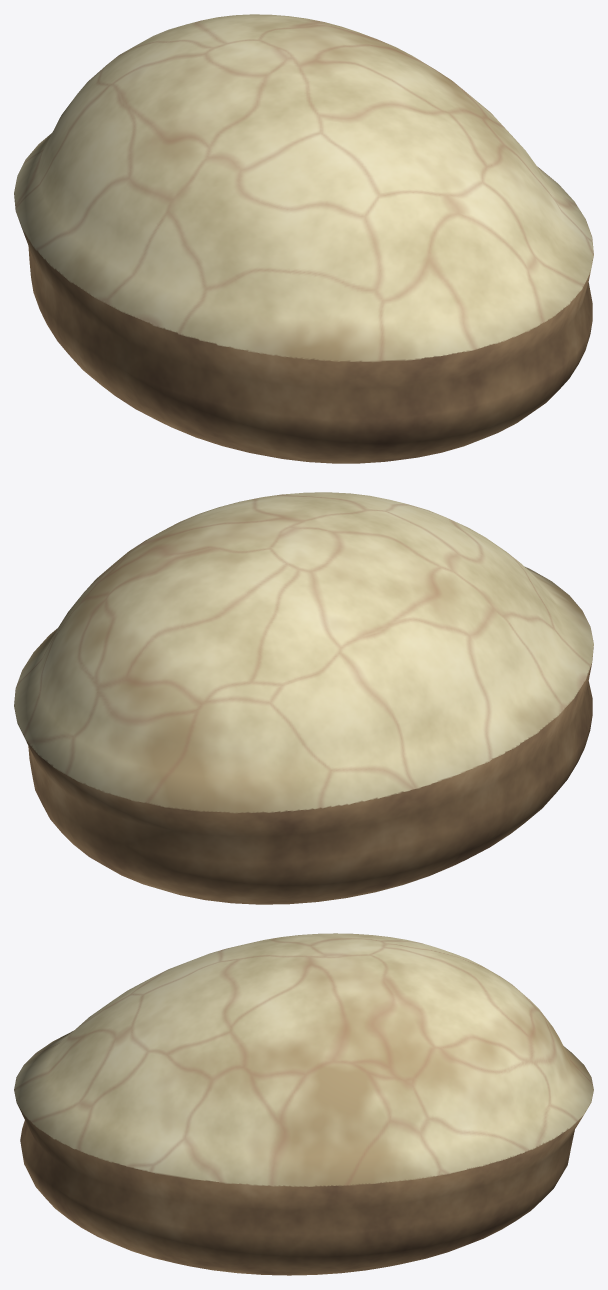
File: headcrab_cuerpo.obj
The picture shows the model from 3 angles, top to bottom: view 1: azimuth 30°, elevation 25°; view 2: azimuth 150°, elevation 25°; view 3: azimuth 270°, elevation 25°; orthographic projection. The views are drawn at different scales.
Visible parts, largest first — view 1: cuerpo; view 2: cuerpo; view 3: cuerpo.
Boxes of the visible parts, x1,y1,x2,y2 form: cuerpo: (14,14,593,463); cuerpo: (14,492,593,904); cuerpo: (14,933,593,1275).
Size of the model in its own units: 0.3072 by 0.208 by 0.3891.
